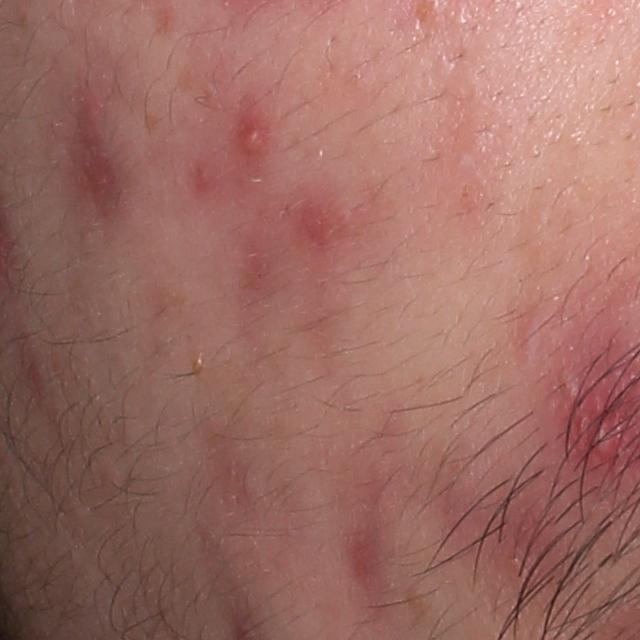papule: (574, 398, 634, 475), (235, 109, 263, 160)
